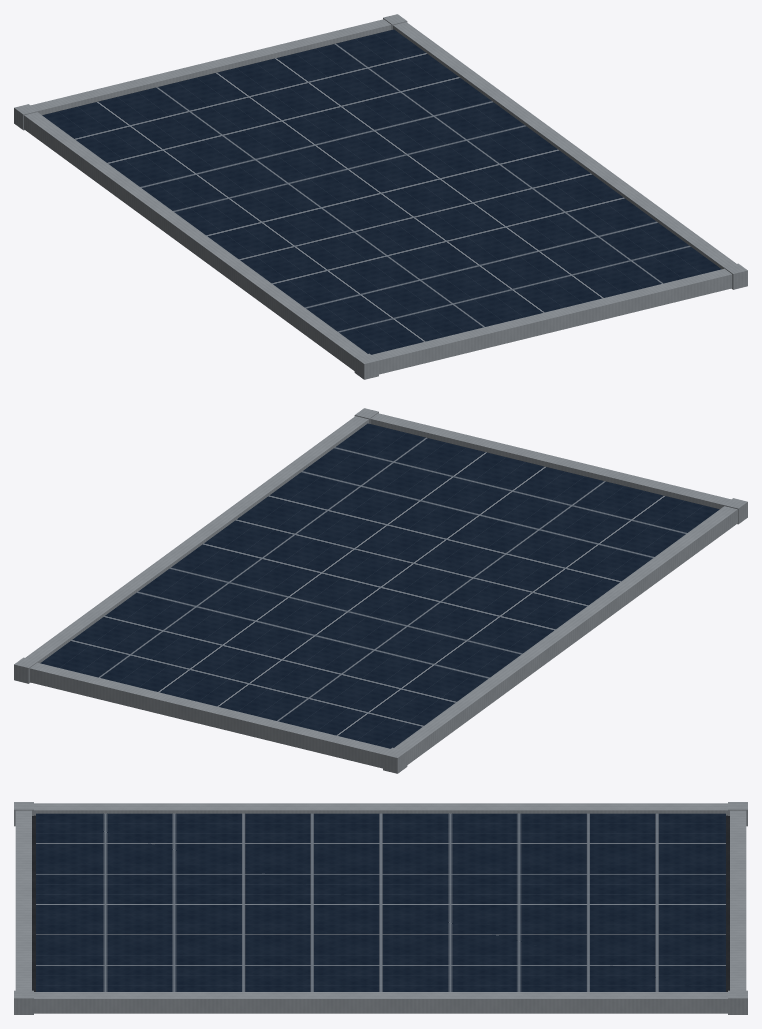
Rendered from PZ_HelioVale_HX180_PV_Panel_HINGE_PIVOT.glb.
3 renders of one model, top to bottom at view 1: azimuth 30°, elevation 25°; view 2: azimuth 150°, elevation 25°; view 3: azimuth 270°, elevation 25°, orthographic. The views are drawn at different scales.
Parts seen in each view (by area): view 1: HX180_CellLaminate_6x10, HX180_ExtrudedAluminium_Rail_L, HX180_ExtrudedAluminium_Rail_Front, HX180_ExtrudedAluminium_Rail_R, HX180_ExtrudedAluminium_Rail_Rear; view 2: HX180_CellLaminate_6x10, HX180_ExtrudedAluminium_Rail_L, HX180_ExtrudedAluminium_Rail_Rear, HX180_ExtrudedAluminium_Rail_R, HX180_ExtrudedAluminium_Rail_Front; view 3: HX180_CellLaminate_6x10, HX180_ExtrudedAluminium_Rail_R, HX180_ExtrudedAluminium_Rail_L, HX180_ExtrudedAluminium_Rail_Front, HX180_ExtrudedAluminium_Rail_Rear, HX180_BackSheet_1800x1140, HX180_FrameCorner_2, HX180_FrameCorner_4.
Boxes of the visible parts, <box> form: HX180_CellLaminate_6x10: <box>42,29,721,354</box>; HX180_ExtrudedAluminium_Rail_L: <box>24,112,367,370</box>; HX180_ExtrudedAluminium_Rail_Front: <box>372,268,732,374</box>; HX180_ExtrudedAluminium_Rail_R: <box>393,22,736,269</box>; HX180_ExtrudedAluminium_Rail_Rear: <box>31,19,391,114</box>; HX180_CellLaminate_6x10: <box>40,423,719,748</box>; HX180_ExtrudedAluminium_Rail_L: <box>394,506,737,764</box>; HX180_ExtrudedAluminium_Rail_Rear: <box>29,662,389,768</box>; HX180_ExtrudedAluminium_Rail_R: <box>25,416,368,663</box>; HX180_ExtrudedAluminium_Rail_Front: <box>370,413,730,508</box>; HX180_CellLaminate_6x10: <box>36,813,725,991</box>; HX180_ExtrudedAluminium_Rail_R: <box>34,992,727,1013</box>; HX180_ExtrudedAluminium_Rail_L: <box>34,803,727,815</box>; HX180_ExtrudedAluminium_Rail_Front: <box>15,810,31,990</box>; HX180_ExtrudedAluminium_Rail_Rear: <box>730,810,746,990</box>; HX180_BackSheet_1800x1140: <box>32,815,729,991</box>; HX180_FrameCorner_2: <box>14,990,33,1014</box>; HX180_FrameCorner_4: <box>728,990,747,1014</box>.
Size of the model in its own units: 1.14 by 0.0895 by 1.81.
Materials: 4 (4 with a texture image).
